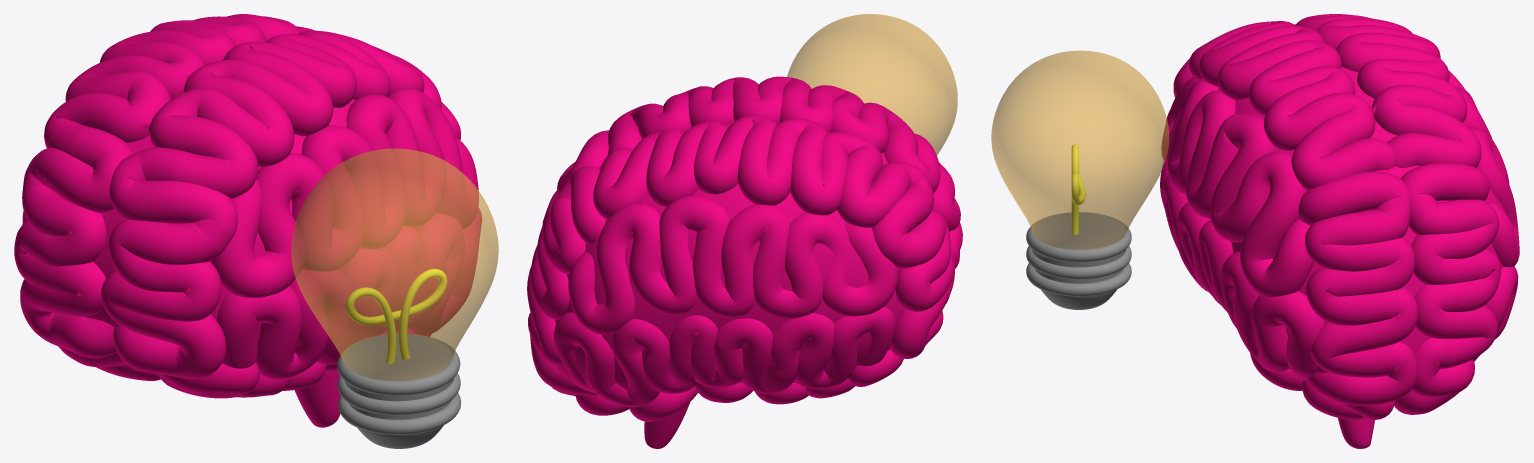
The model's file is brain.element.glb.
3 views of the same model, side by side, from view 1: azimuth 30°, elevation 25°; view 2: azimuth 150°, elevation 25°; view 3: azimuth 270°, elevation 25° (orthographic). The views are drawn at different scales.
Parts seen in each view (by area): view 1: BezierCurve, Sphere, Cylinder.001, BezierCurve.001, Circle, Cube, Circle.002, Circle.001, Cylinder; view 2: BezierCurve, Sphere, Cube, Cylinder; view 3: BezierCurve, Sphere, Cylinder.001, Cube, Circle, Circle.002, Circle.001, Cylinder, BezierCurve.001.
Boxes of the visible parts, bbox=[...] form: BezierCurve: bbox=[14, 14, 481, 398]; Sphere: bbox=[291, 148, 498, 380]; Cylinder.001: bbox=[344, 335, 453, 448]; BezierCurve.001: bbox=[345, 268, 447, 363]; Circle: bbox=[337, 334, 460, 395]; Cube: bbox=[85, 99, 425, 341]; Circle.002: bbox=[338, 393, 460, 434]; Circle.001: bbox=[337, 373, 460, 415]; Cylinder: bbox=[294, 370, 340, 427]; BezierCurve: bbox=[527, 76, 962, 421]; Sphere: bbox=[787, 14, 957, 154]; Cube: bbox=[555, 122, 904, 393]; Cylinder: bbox=[644, 402, 690, 448]; BezierCurve: bbox=[1160, 14, 1519, 419]; Sphere: bbox=[991, 50, 1169, 249]; Cylinder.001: bbox=[1031, 213, 1126, 309]; Cube: bbox=[1210, 66, 1506, 391]; Circle: bbox=[1026, 212, 1131, 262]; Circle.002: bbox=[1026, 263, 1131, 296]; Circle.001: bbox=[1026, 246, 1131, 279]; Cylinder: bbox=[1338, 418, 1374, 448]; BezierCurve.001: bbox=[1071, 144, 1085, 234].
Bounding box in the file's own units: 2.98 × 2.67 × 3.53.
